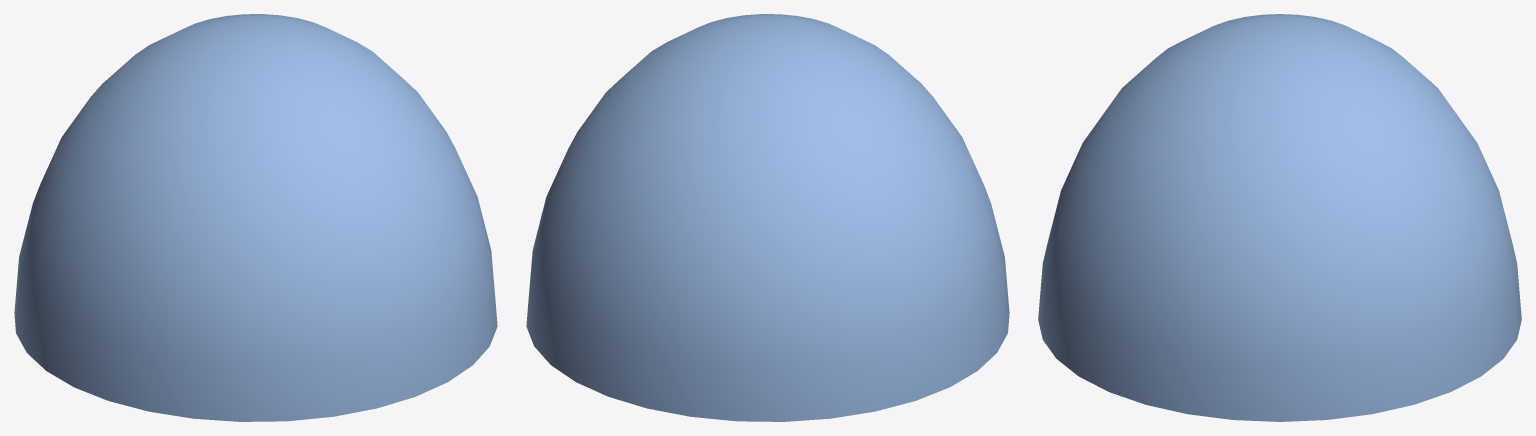
The model's file is Rock.obj.
The picture shows the model from 3 angles, left to right: view 1: azimuth 30°, elevation 25°; view 2: azimuth 150°, elevation 25°; view 3: azimuth 270°, elevation 25°; orthographic projection.
Parts seen in each view (by area): view 1: Sphere001; view 2: Sphere001; view 3: Sphere001.
Boxes of the visible parts, x1,y1,x2,y2 form: Sphere001: [14, 14, 497, 421]; Sphere001: [526, 14, 1009, 421]; Sphere001: [1038, 14, 1521, 421].
Size of the model in its own units: 0.5 by 0.3291 by 0.5.
